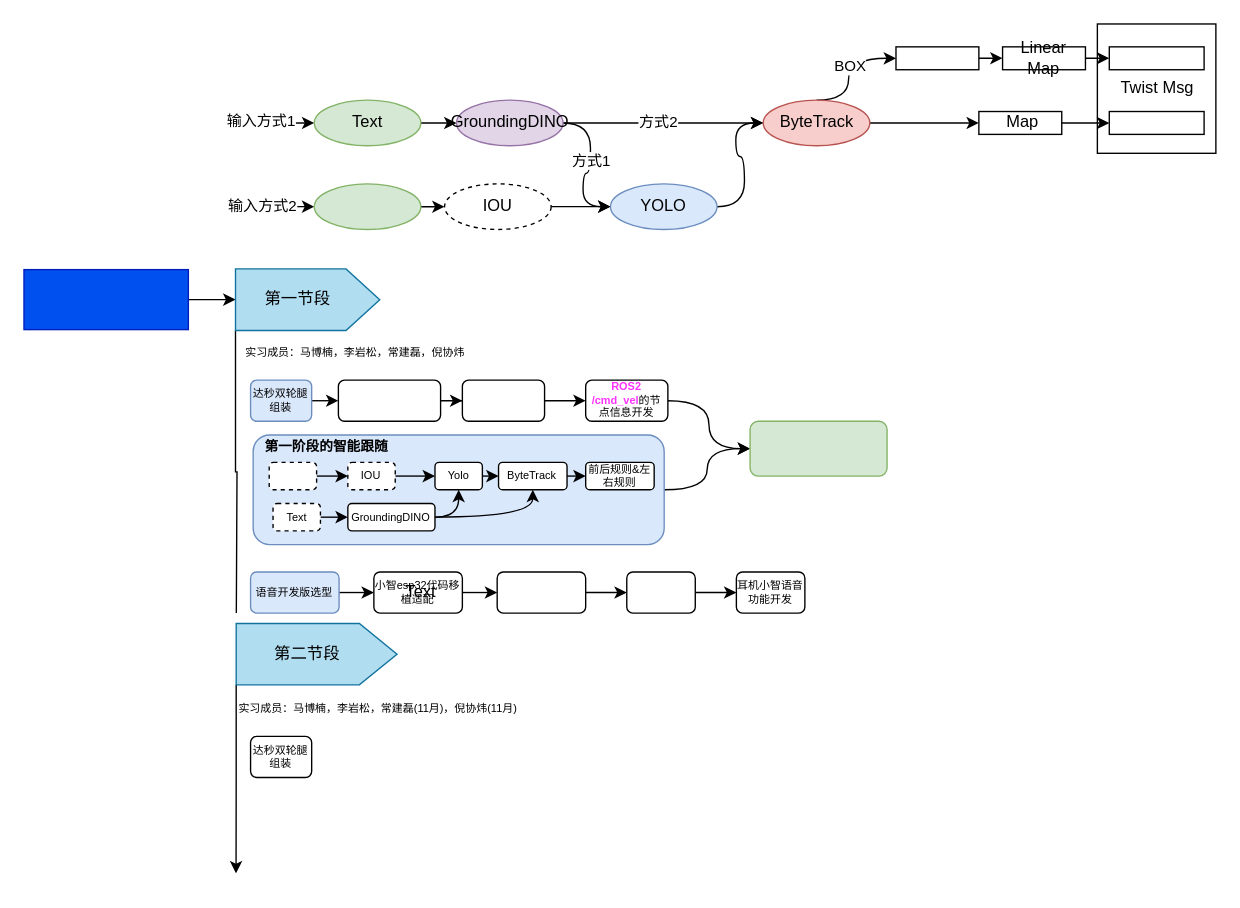
The diagram is 1240 pixels wide and 908 high, and some of its shapes have lost their labels. The shapes that lost their labels are listed below. From the top down, each one's box as (x1, y1, x2, y2) in pixels, then its label:
(895, 45, 979, 70): Get target distance
(1108, 45, 1204, 70): linear x,y
(1108, 110, 1204, 134): YAW
(313, 182, 421, 229): 用户画框
(23, 268, 188, 330): 下半年(具身智能团队)
(337, 379, 441, 421): 达秒STM32 串口控制信息逻辑开发
(461, 379, 545, 421): 达秒STM32 里程计开发
(749, 420, 887, 476): 2025年9月9日 给Peter演示
(268, 461, 317, 490): 画框
(496, 571, 586, 613): 语音基本指令控制开发
(625, 571, 695, 613): 耳机esp32开发版选型
